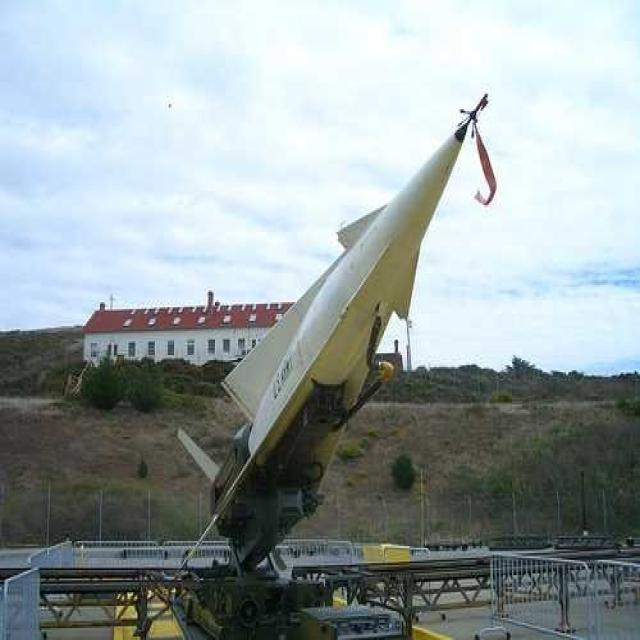missile: (186, 90, 495, 565)
